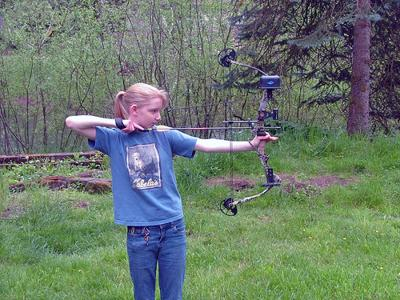person: (65, 82, 278, 300)
